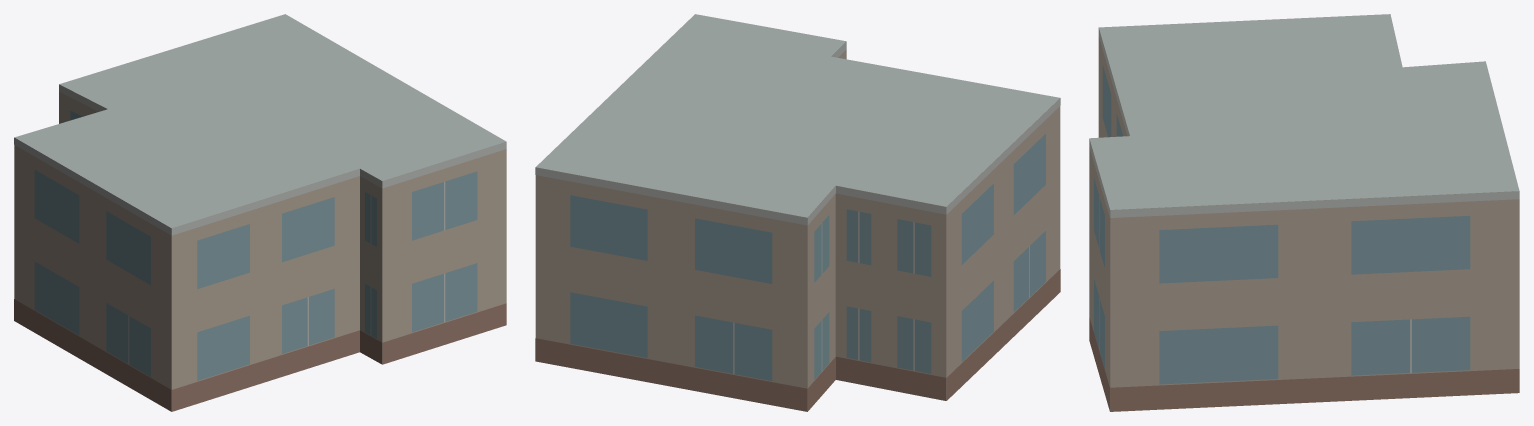
The model's file is survey-upis-32571261.glb.
The picture shows the model from 3 angles, left to right: view 1: azimuth 30°, elevation 25°; view 2: azimuth 150°, elevation 25°; view 3: azimuth 270°, elevation 25°; orthographic projection. The views are drawn at different scales.
Parts seen in each view (by area): view 1: survey-upis-32571261.tmp; view 2: survey-upis-32571261.tmp; view 3: survey-upis-32571261.tmp.
Part boxes in pixels (x1,y1,x2,y2): survey-upis-32571261.tmp: (14, 14, 506, 411); survey-upis-32571261.tmp: (535, 14, 1060, 411); survey-upis-32571261.tmp: (1089, 14, 1519, 411).
Bounding box in the file's own units: 12.71 × 6.1 × 11.79.
